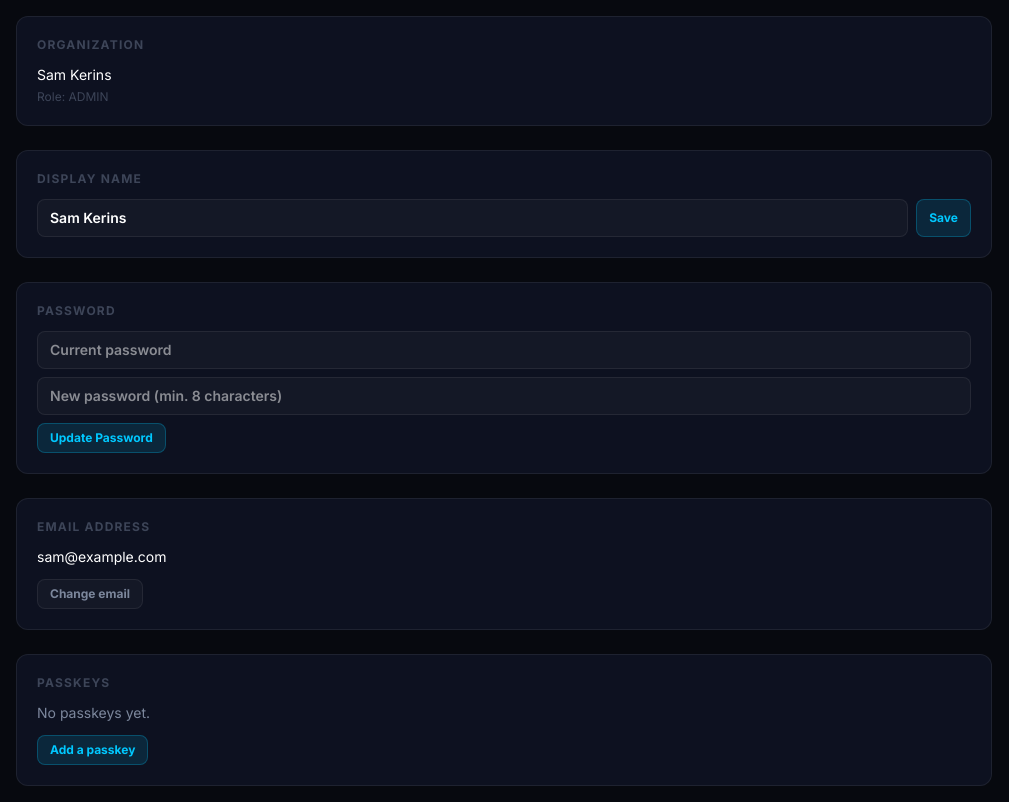
Test case: AccountPage › shows an error when saving the display name fails
Click the button "Save" at (944, 218), box [916,199,971,237]
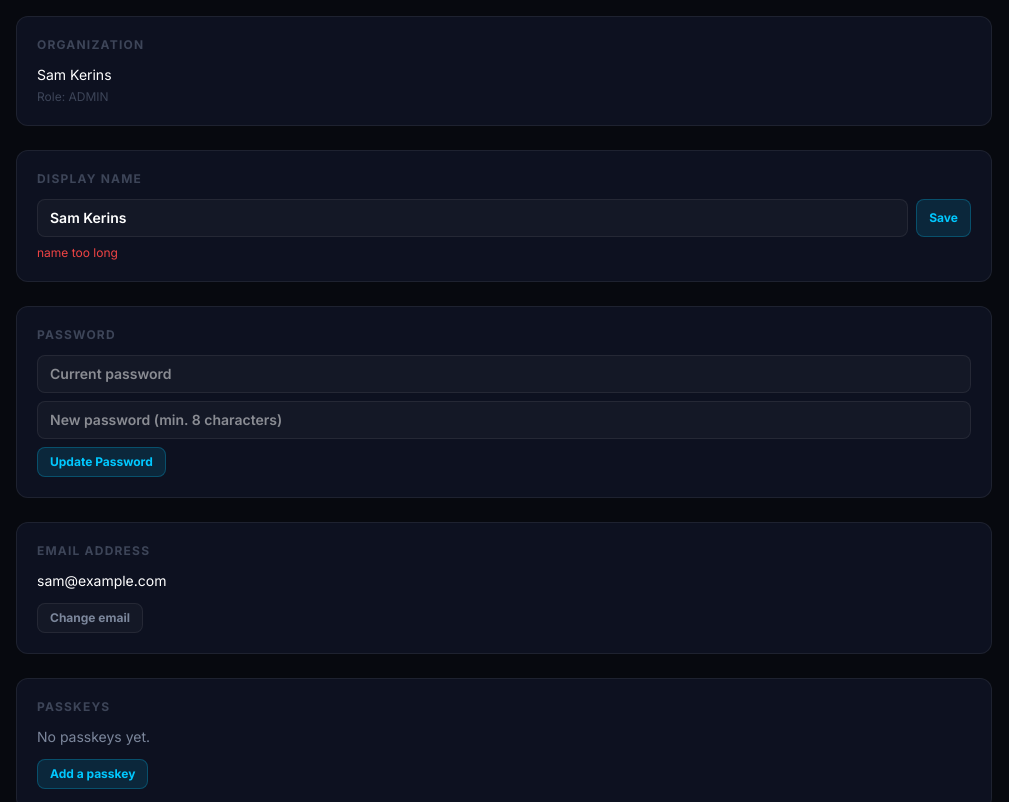
Now the text "name too long" is shown, box [37,245,118,260]
